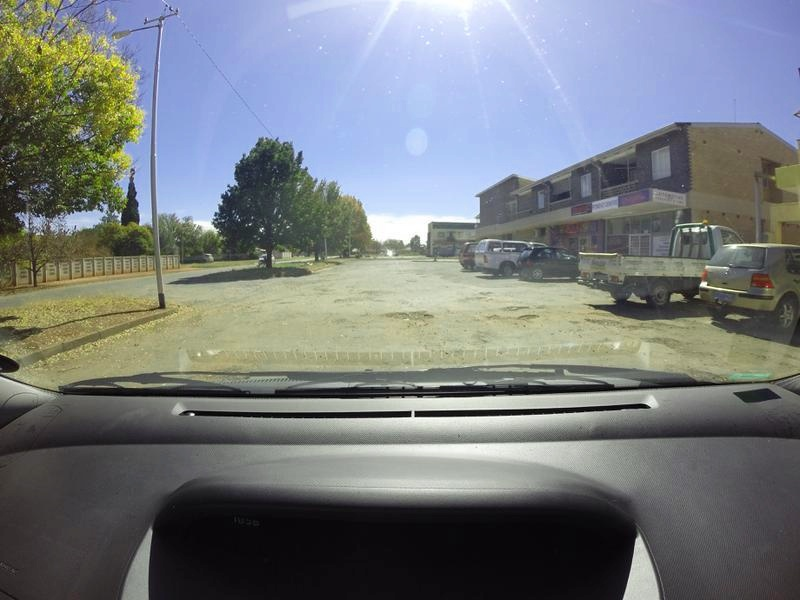pothole: (646, 330, 712, 358), (381, 306, 448, 321), (587, 312, 621, 328), (335, 295, 375, 307), (467, 292, 499, 305), (501, 302, 524, 312), (519, 315, 546, 319)
